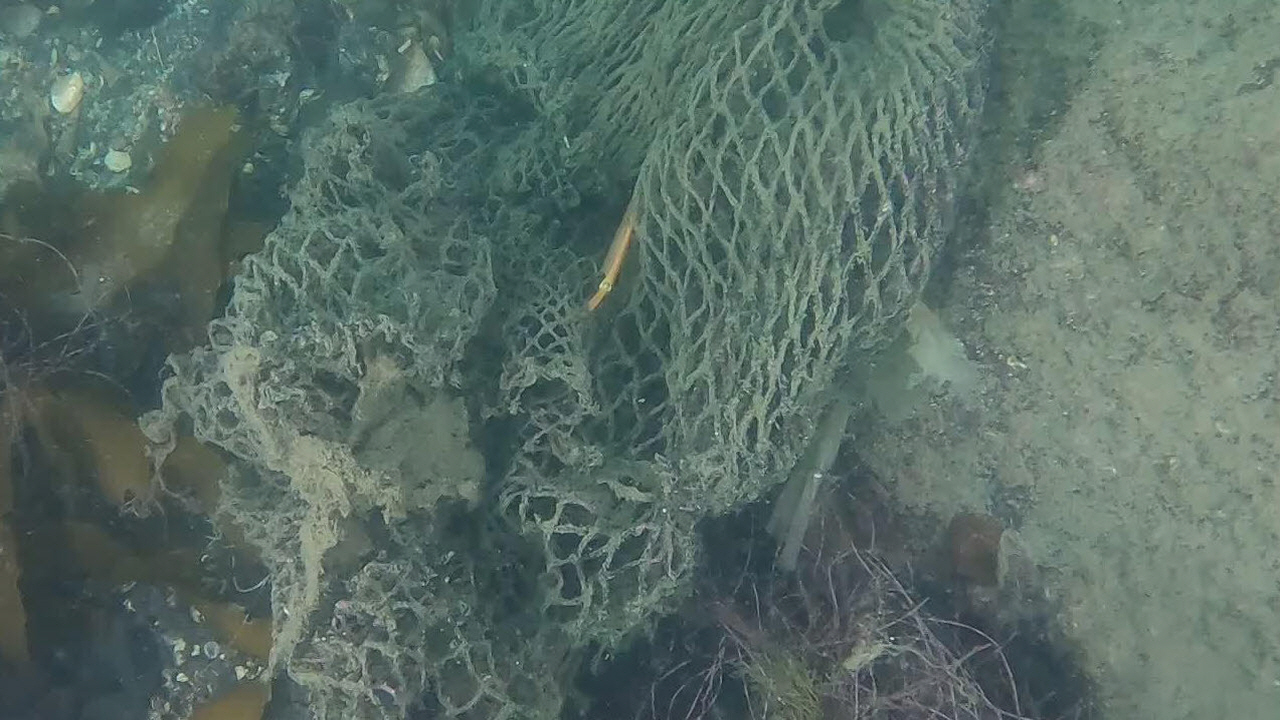fish net: (136, 0, 989, 720)
